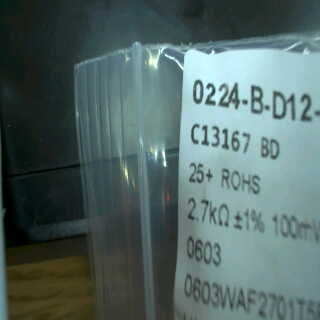2.7kR: (185, 194, 228, 233)
